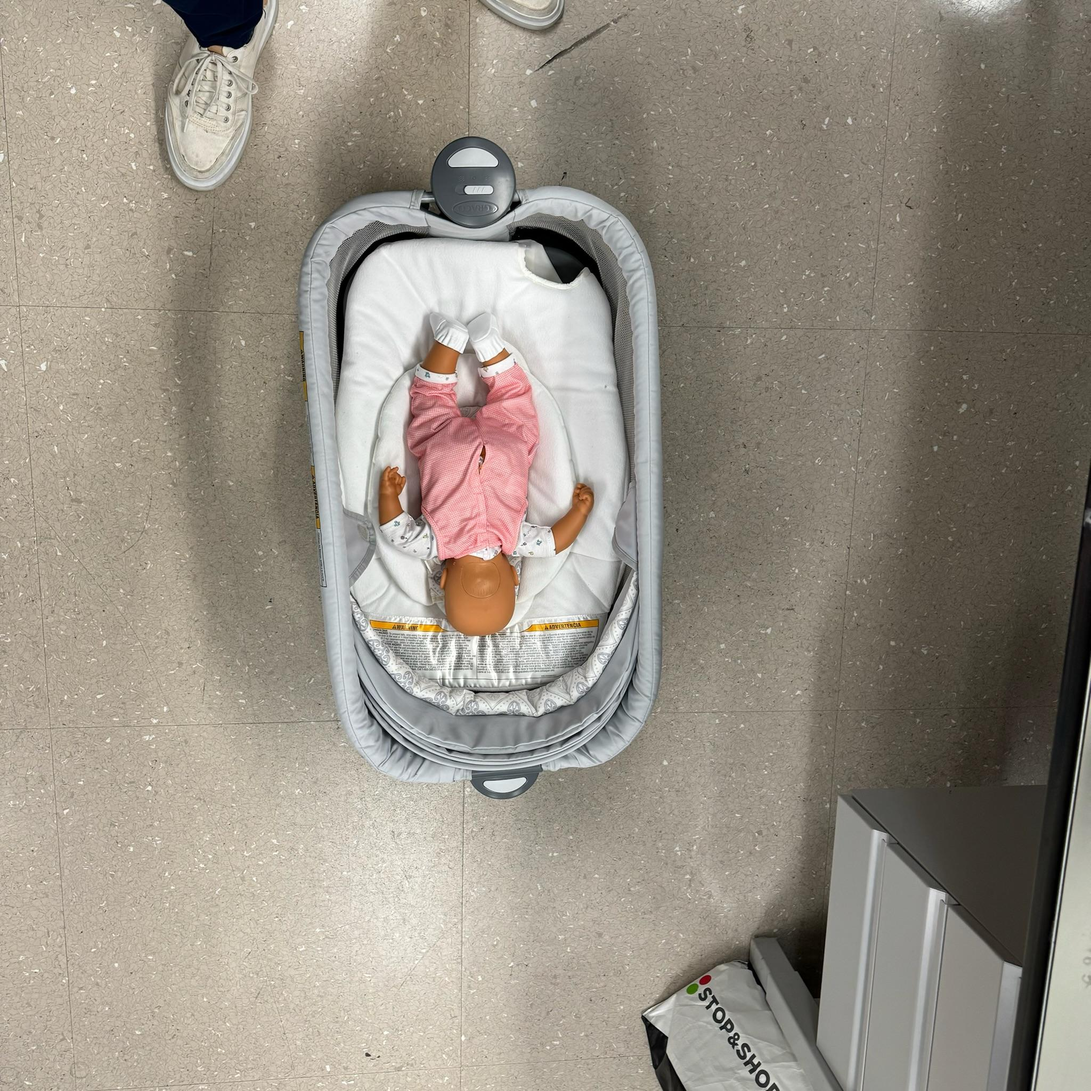baby: (378, 304, 596, 639)
